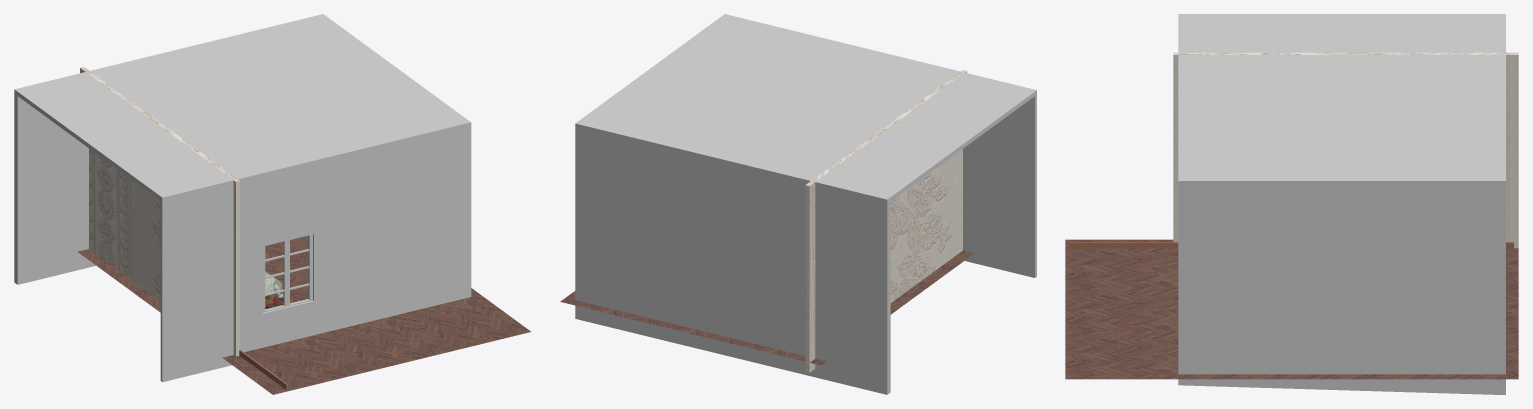
File: reveil.glb
3 renders of one model, left to right at view 1: azimuth 30°, elevation 25°; view 2: azimuth 150°, elevation 25°; view 3: azimuth 270°, elevation 25°, orthographic. The views are drawn at different scales.
Visible parts, largest first — view 1: Plane.007, parquet, Plane.001, Plane.008, Cube.022; view 2: Plane.007, Plane.001, parquet; view 3: Plane.007, parquet, Plane.001, Cube.003.
Part boxes in pixels (left/top/right/bottom): Plane.007: left=14, top=14, right=471, bottom=382; parquet: left=77, top=235, right=530, bottom=394; Plane.001: left=80, top=67, right=240, bottom=356; Plane.008: left=263, top=234, right=312, bottom=312; Cube.022: left=283, top=240, right=289, bottom=305; Plane.007: left=575, top=14, right=1036, bottom=394; Plane.001: left=805, top=70, right=967, bottom=372; parquet: left=560, top=250, right=974, bottom=365; Plane.007: left=1178, top=14, right=1505, bottom=394; parquet: left=1065, top=239, right=1518, bottom=379; Plane.001: left=1173, top=52, right=1518, bottom=248; Cube.003: left=1069, top=242, right=1513, bottom=248.
Size of the model in its own units: 25.47 by 14.78 by 28.36.
53 materials, 9 textured.
